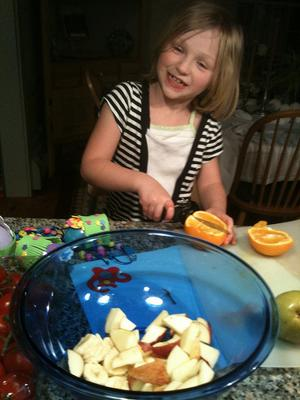person: (79, 1, 242, 246)
